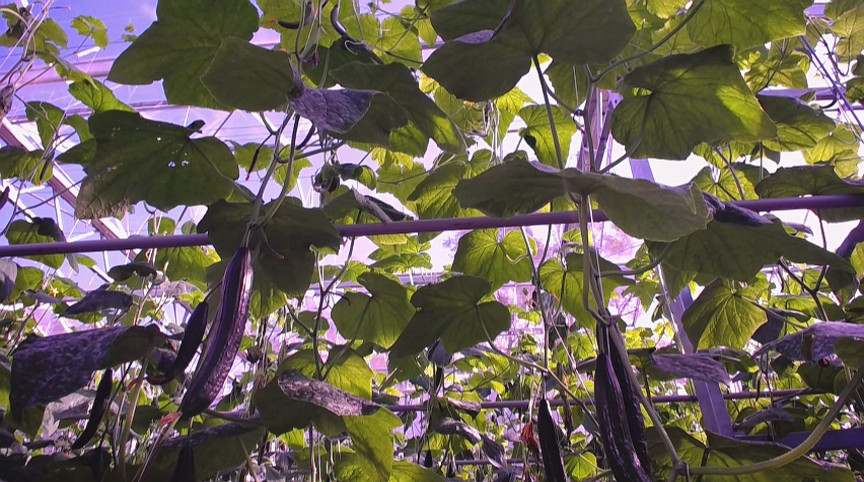cucumber: (178, 248, 253, 415), (593, 352, 651, 481), (146, 302, 209, 386), (72, 369, 114, 452), (537, 399, 569, 481)
